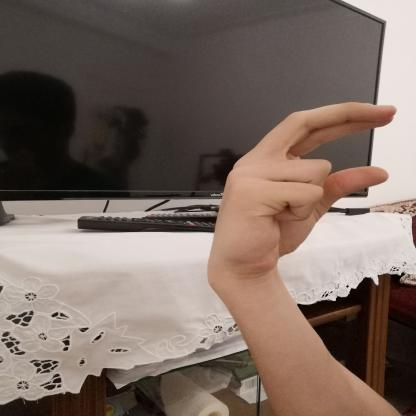DHELL: (192, 92, 405, 284)
